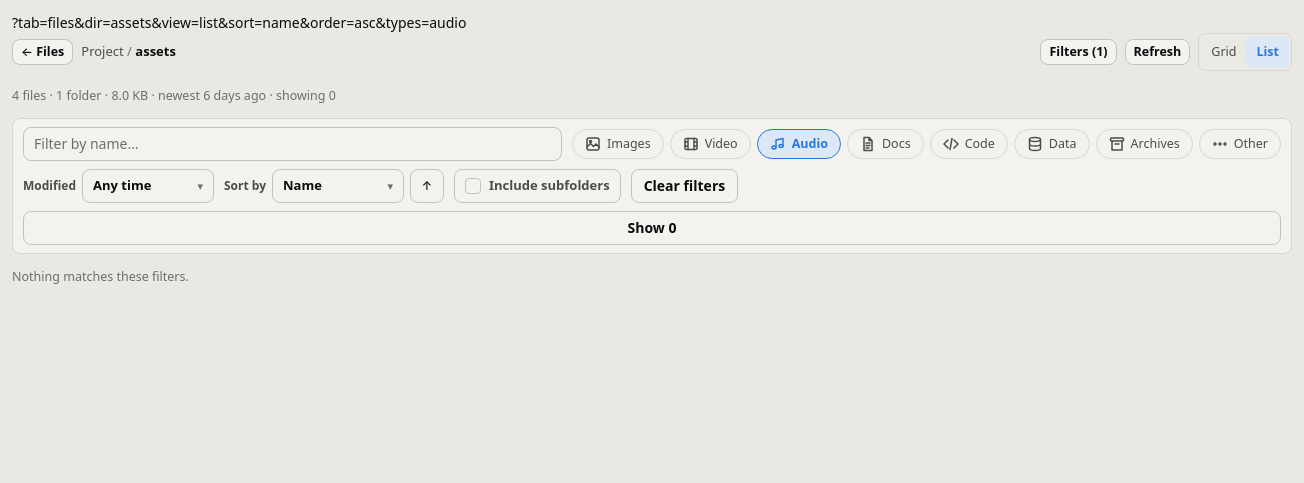
Scenario: FolderView › starts from the view in the address, and says when nothing matches
Expected: the text "Nothing matches these filters." is shown, [12,268,189,285]
Click the button "Clear filters" at (684, 186), box [631,169,738,203]
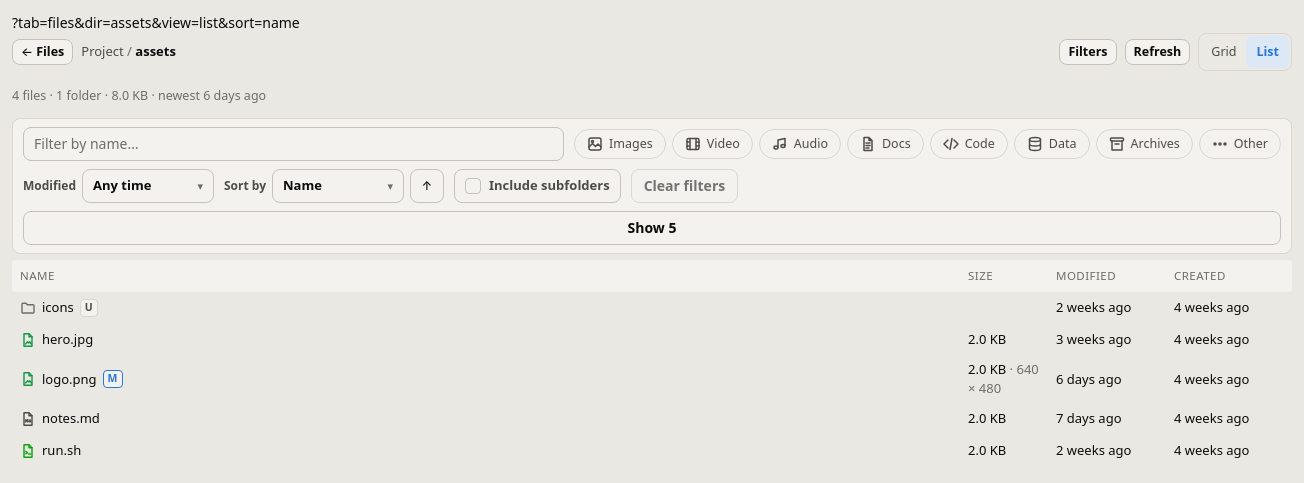
Expected: the table named "Entries" is shown, [12,260,1292,467]
